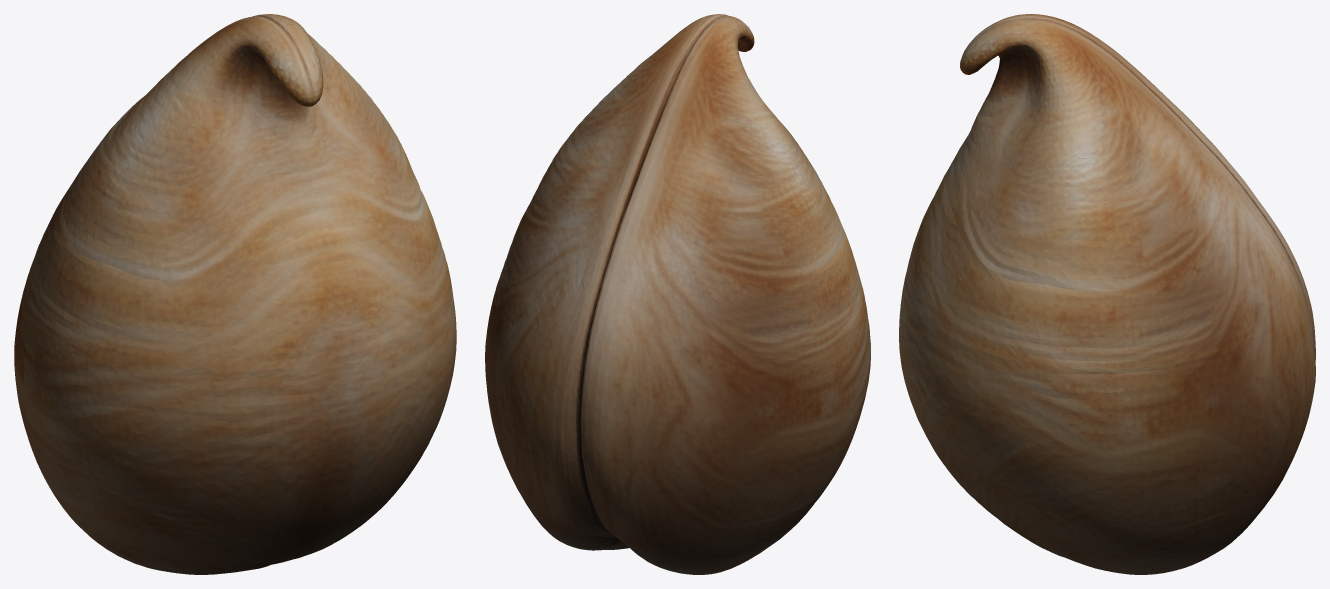
3 renders of one model, left to right at view 1: azimuth 30°, elevation 25°; view 2: azimuth 150°, elevation 25°; view 3: azimuth 270°, elevation 25°, orthographic. The views are drawn at different scales.
Visible parts, largest first — view 1: world; view 2: world; view 3: world.
Part boxes in pixels (left/top/right/bottom): world: left=14, top=14, right=456, bottom=574; world: left=485, top=14, right=870, bottom=574; world: left=899, top=14, right=1315, bottom=574.
Bounding box in the file's own units: 0.7081 × 0.9991 × 0.716.
Materials: 1 (1 with a texture image).
